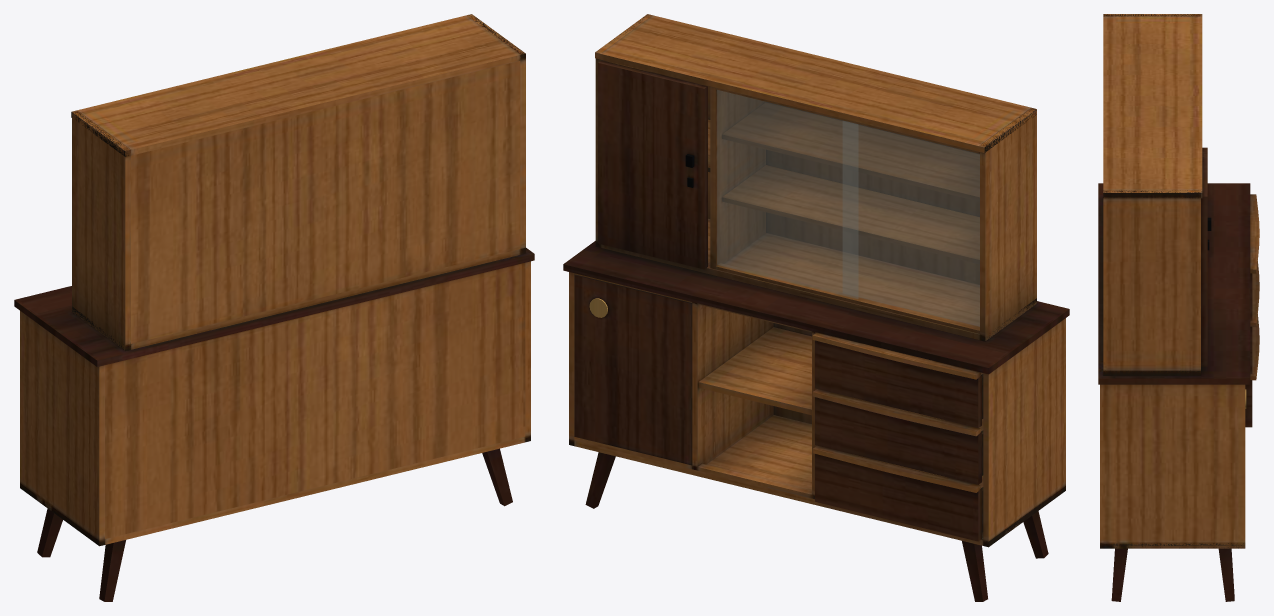
Rendered from sideboard_web.glb.
3 renders of one model, left to right at view 1: azimuth 30°, elevation 25°; view 2: azimuth 150°, elevation 25°; view 3: azimuth 270°, elevation 25°, orthographic. The views are drawn at different scales.
Parts seen in each view (by area): view 1: Sideboard_Body; view 2: Sideboard_Body, Glass_A, Glass_B, Door_Up_Mesh, Slide_Door_Mesh, Drawer_3_Mesh, Drawer_2_Mesh, Drawer_1_Mesh; view 3: Sideboard_Body, Door_Up_Mesh, Drawer_1_Mesh, Drawer_3_Mesh, Drawer_2_Mesh.
Boxes of the visible parts, <box> form: Sideboard_Body: <box>14,14,534,601</box>; Sideboard_Body: <box>563,14,1069,601</box>; Glass_A: <box>717,90,858,298</box>; Glass_B: <box>843,121,979,326</box>; Door_Up_Mesh: <box>598,60,707,269</box>; Slide_Door_Mesh: <box>574,274,692,465</box>; Drawer_3_Mesh: <box>812,445,983,541</box>; Drawer_2_Mesh: <box>812,389,983,484</box>; Drawer_1_Mesh: <box>812,332,983,427</box>; Sideboard_Body: <box>1098,14,1250,601</box>; Door_Up_Mesh: <box>1201,147,1211,366</box>; Drawer_1_Mesh: <box>1250,194,1259,320</box>; Drawer_3_Mesh: <box>1245,314,1259,427</box>; Drawer_2_Mesh: <box>1250,261,1259,373</box>.
Bounding box in the file's own units: 1.42 × 1.4 × 0.495.
Materials: 3 (2 with a texture image).
